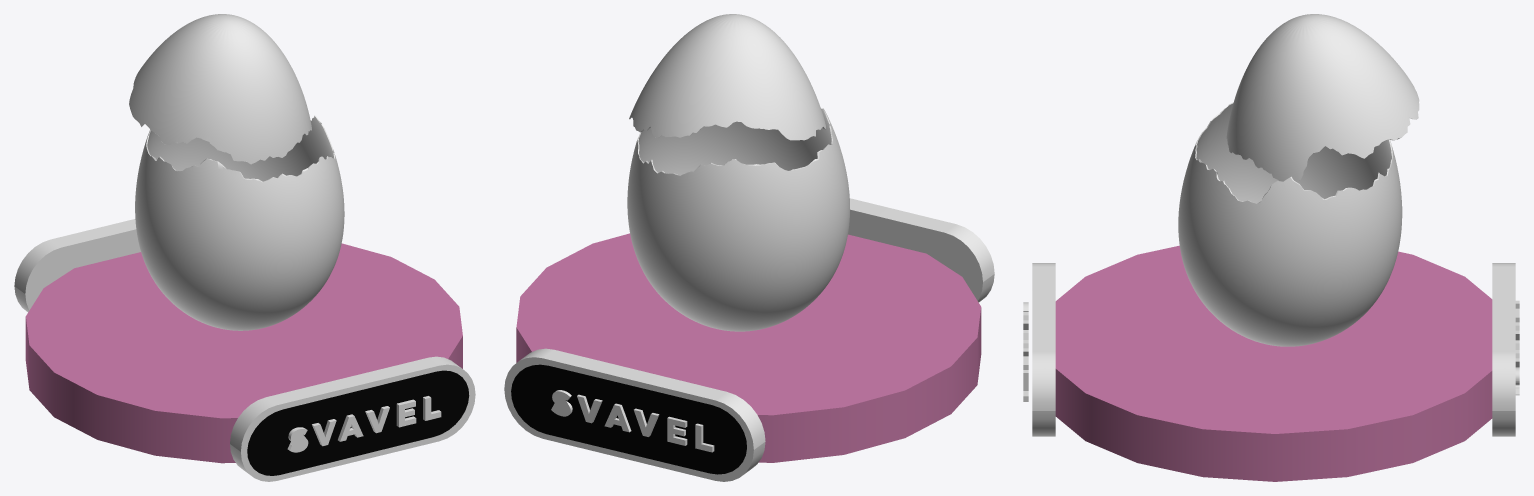
The model's file is eggseparated_objectgeo.fbx.
The picture shows the model from 3 angles, left to right: view 1: azimuth 30°, elevation 25°; view 2: azimuth 150°, elevation 25°; view 3: azimuth 270°, elevation 25°; orthographic projection. The views are drawn at different scales.
Parts seen in each view (by area): view 1: eggbase_labelgeo, egg_geo2, eggbase_labelgeo1, eggbase_label2geo, eggtext_labelgeo; view 2: eggbase_labelgeo, egg_geo2, eggbase_label2geo, eggbase_labelgeo1, eggtext_label2geo; view 3: eggbase_labelgeo, egg_geo2, eggbase_labelgeo1, eggbase_label2geo, eggtext_labelgeo.
Boxes of the visible parts, x1,y1,x2,y2 form: eggbase_labelgeo: [25, 243, 462, 463]; egg_geo2: [129, 14, 344, 330]; eggbase_labelgeo1: [230, 356, 475, 481]; eggbase_label2geo: [14, 219, 140, 312]; eggtext_labelgeo: [287, 396, 441, 452]; eggbase_labelgeo: [516, 233, 981, 462]; egg_geo2: [627, 14, 849, 331]; eggbase_label2geo: [504, 348, 765, 481]; eggbase_labelgeo1: [848, 198, 994, 302]; eggtext_label2geo: [551, 390, 714, 452]; eggbase_labelgeo: [1055, 245, 1492, 481]; egg_geo2: [1178, 14, 1419, 346]; eggbase_labelgeo1: [1032, 263, 1055, 436]; eggbase_label2geo: [1492, 263, 1515, 436]; eggtext_labelgeo: [1023, 302, 1028, 401].
Bounding box in the file's own units: 18.1 × 15.75 × 19.14.
